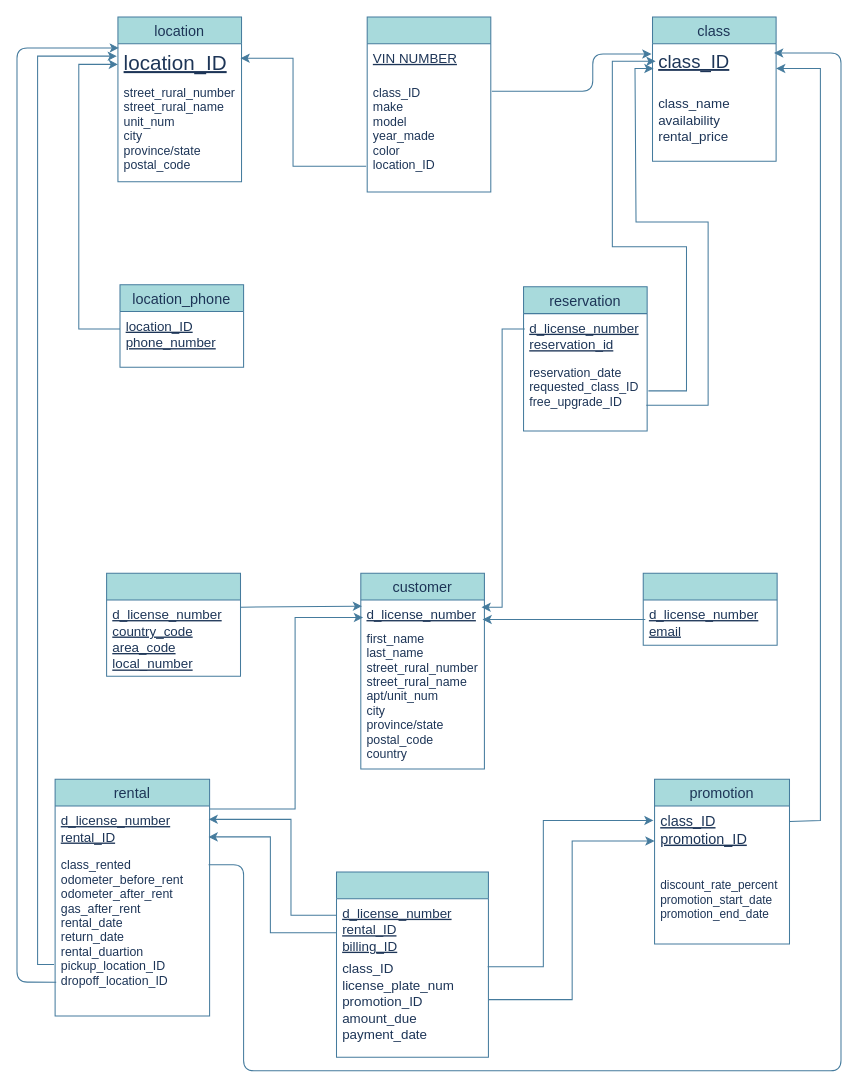
Some shapes in this 858 by 1088 pixel diagram are drawn without their labels. Each missing label, with the box of its shape:
car: (366, 16, 491, 192)
customer_email: (642, 572, 777, 645)
customer_phone: (106, 572, 241, 676)
drop_off_charge: (335, 871, 488, 1057)
